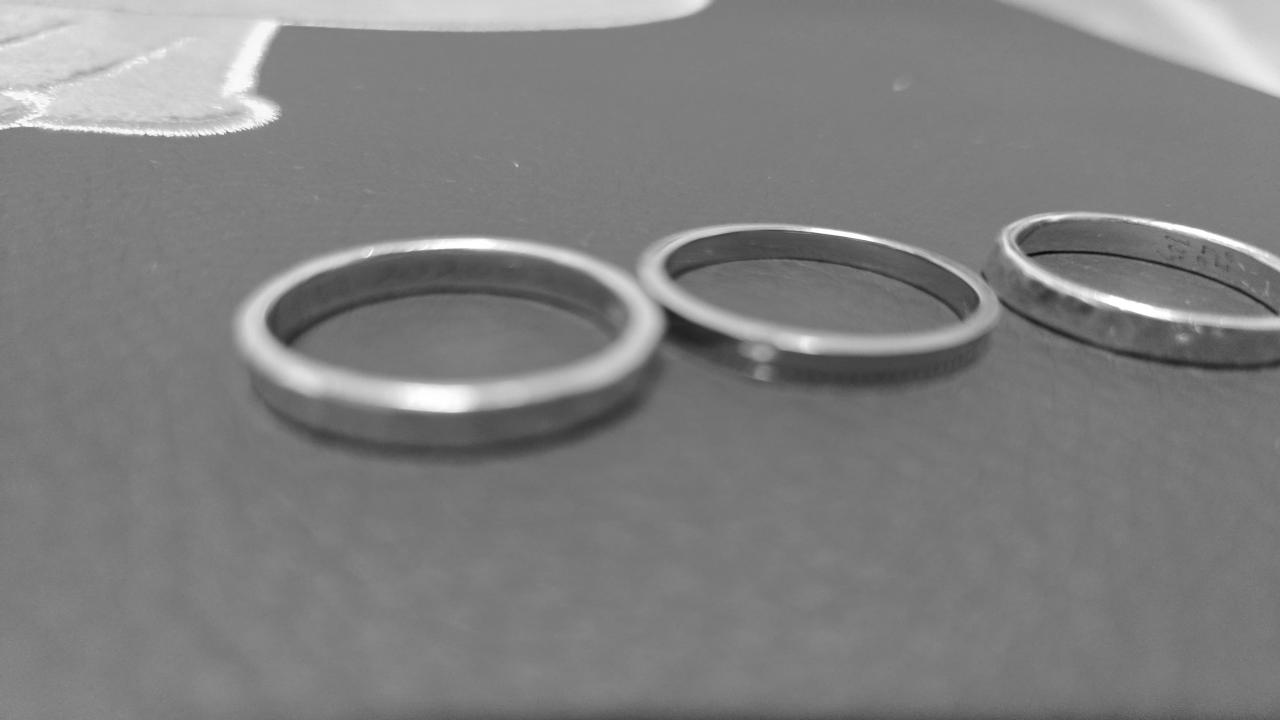ring: (230, 236, 662, 452), (639, 222, 1005, 383), (982, 210, 1280, 366)
